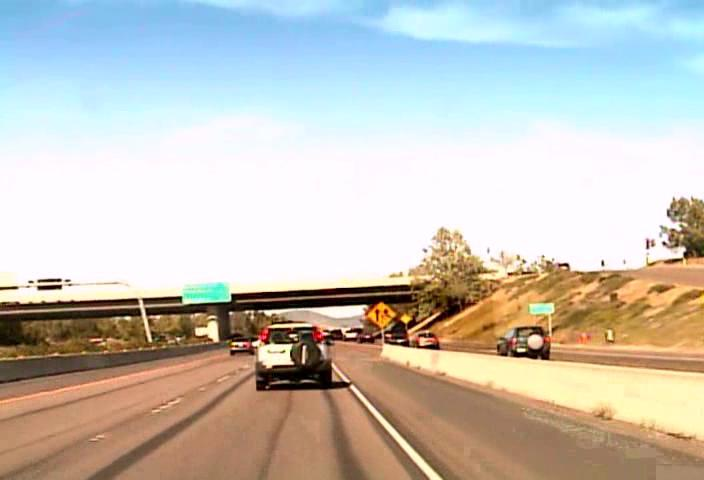addedLane: (365, 301, 397, 329)
